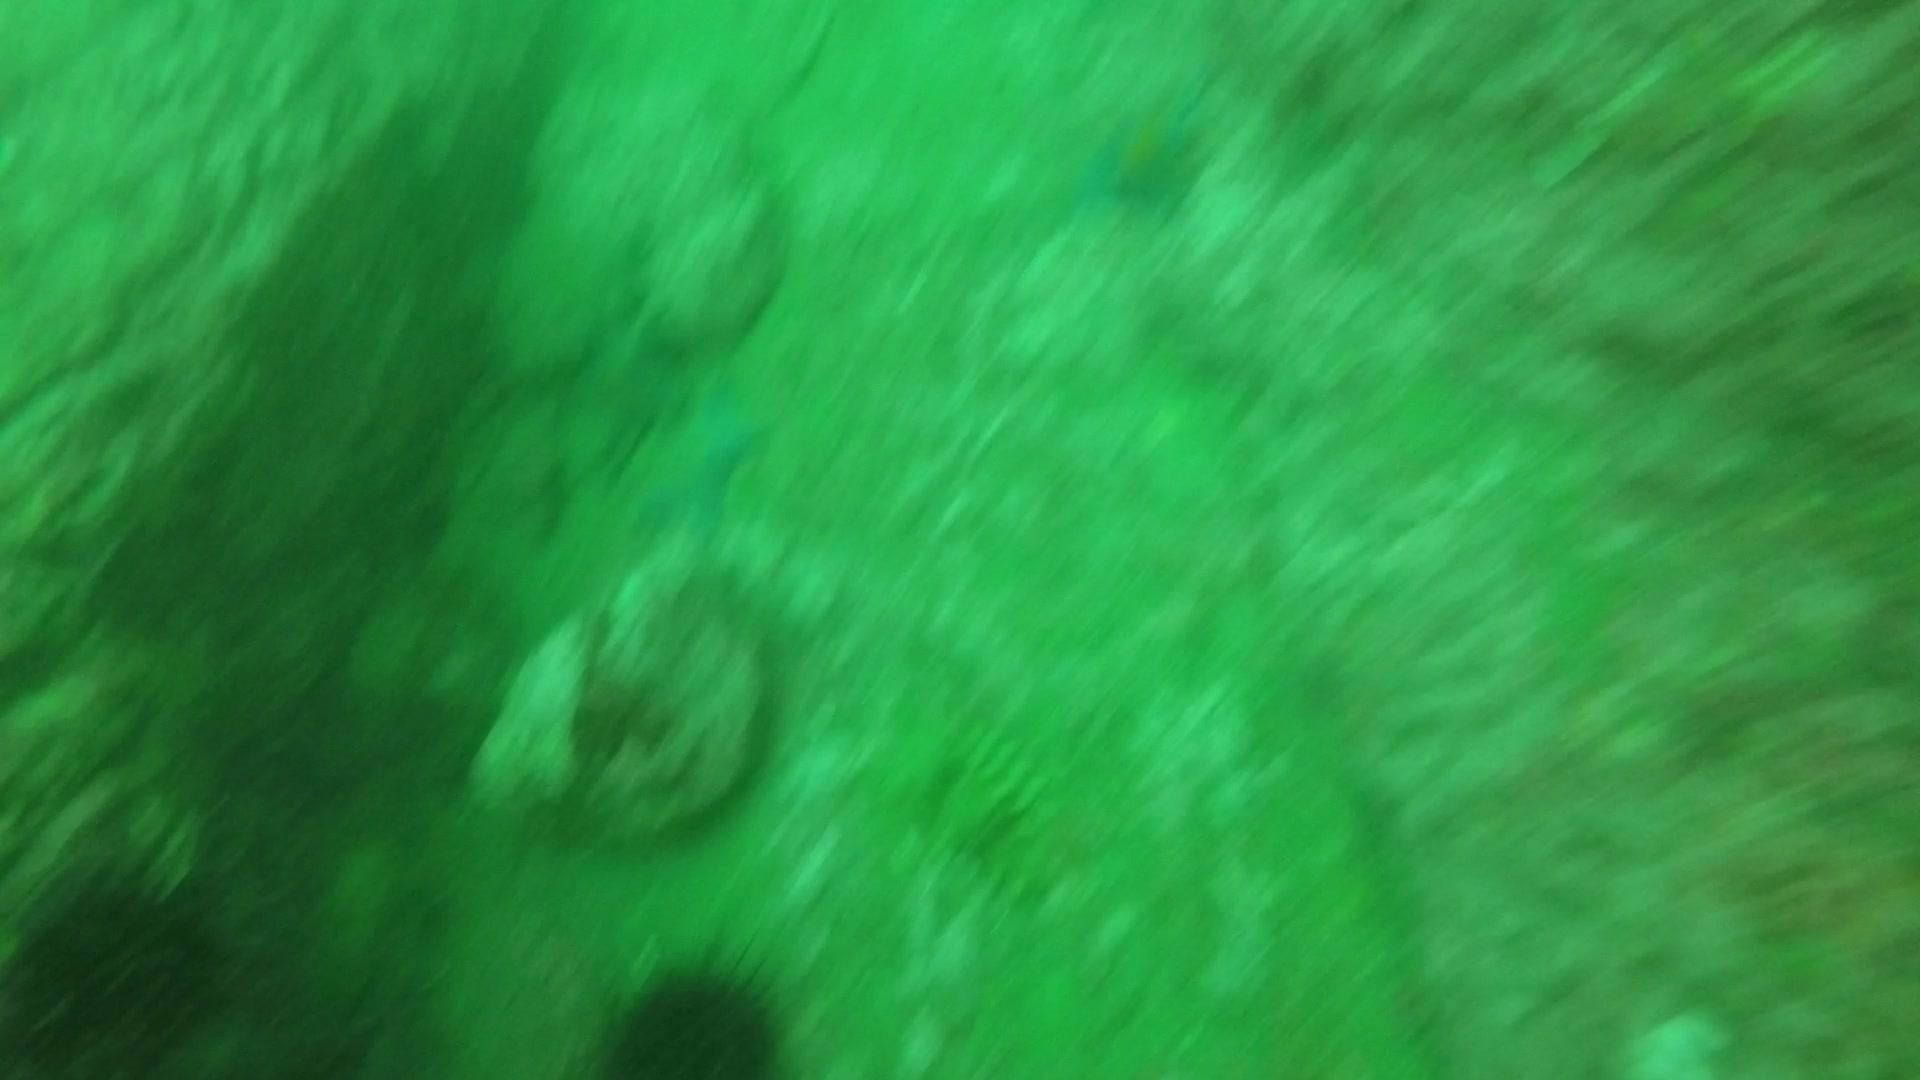echinus: (3, 853, 233, 1071), (589, 943, 796, 1077)
holothurian: (843, 715, 1073, 907)
starfish: (616, 382, 769, 542), (1081, 90, 1209, 215)
